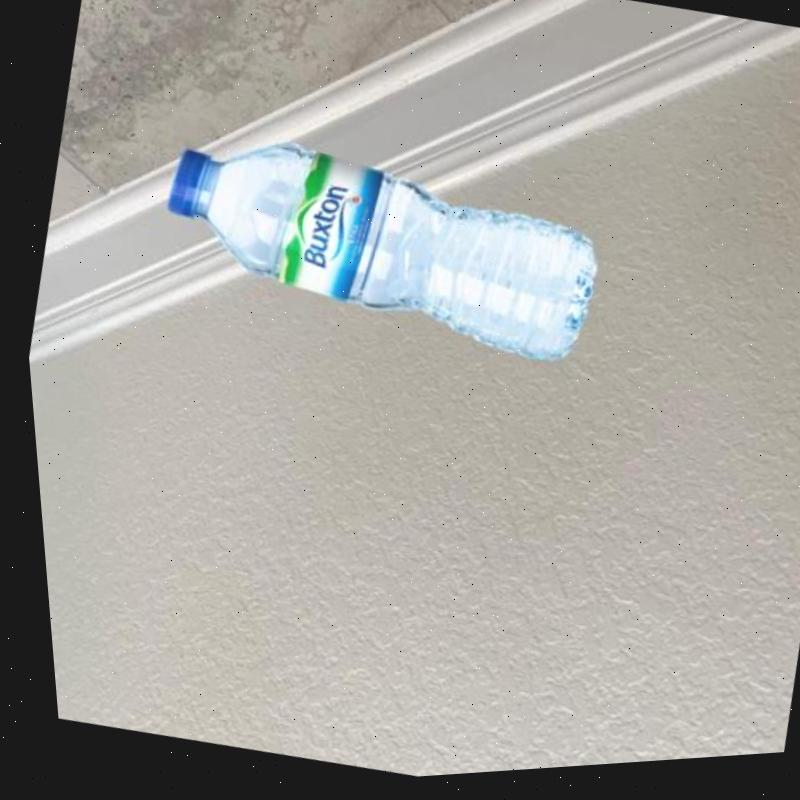botella: (137, 107, 617, 396)
